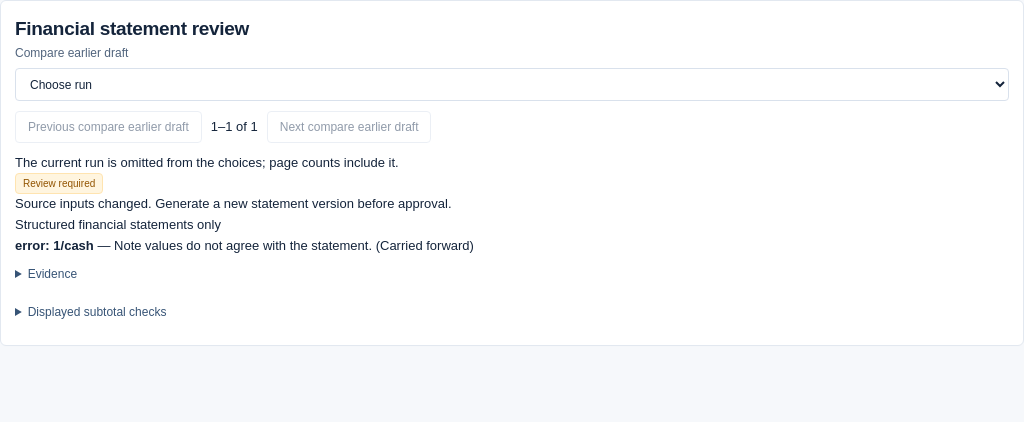
Scenario: shows stale sources and preserves issue evidence and draft selection
The width and height of the screenshot is (1024, 422).
Check: the message shows "Source inputs changed", box [15,196,452,211]
Check: the list item "Carried forward" is shown, box [376,238,474,253]
Select "financials · 2026-10-24 · old" in the dropdown labelled "Compare earlier draft" at (512, 84), box [15,68,1009,100]
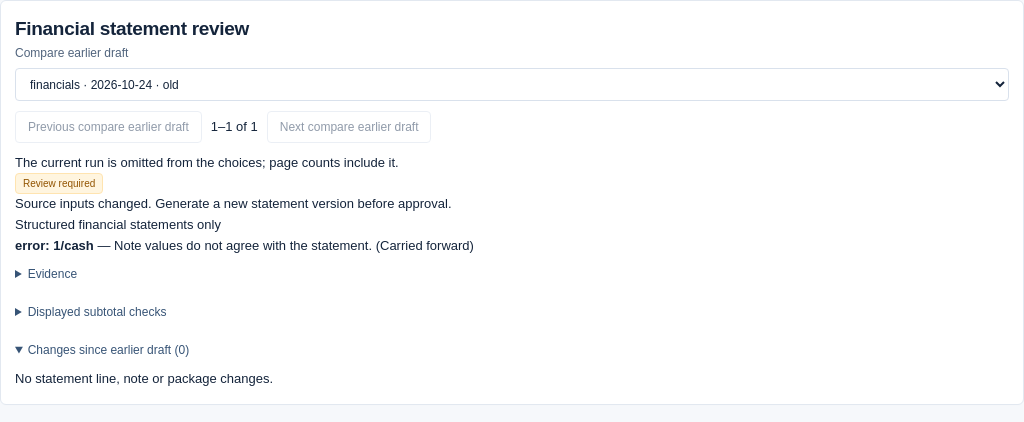
Check: the text "No statement line, note or package changes." is shown, box [15,371,273,386]
